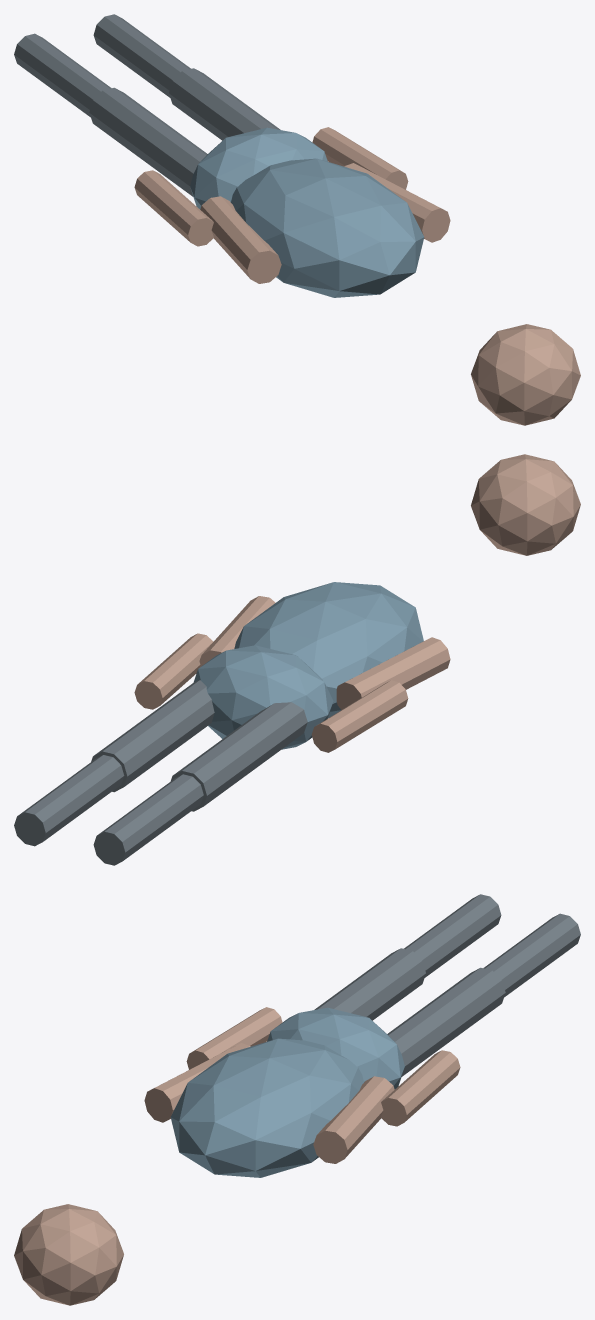
File: adult-low.glb
The picture shows the model from 3 angles, top to bottom: view 1: azimuth 30°, elevation 25°; view 2: azimuth 150°, elevation 25°; view 3: azimuth 330°, elevation 25°; orthographic projection.
Visible parts, largest first — view 1: torso, head, left_thigh, pelvis, right_thigh, right_lower_leg, left_lower_leg, left_upper_arm, left_forearm, right_forearm, right_upper_arm; view 2: torso, head, pelvis, left_thigh, right_thigh, left_lower_leg, right_lower_leg, left_upper_arm, left_forearm, right_forearm, right_upper_arm; view 3: torso, head, right_thigh, pelvis, left_thigh, left_lower_leg, right_lower_leg, right_upper_arm, right_forearm, left_forearm, left_upper_arm.
Part boxes in pixels (x1,y1,x2,y2): torso: (231, 158, 424, 297); head: (471, 324, 580, 425); left_thigh: (89, 87, 207, 196); pelvis: (190, 127, 327, 209); right_thigh: (169, 68, 280, 140); right_lower_leg: (93, 14, 190, 97); left_lower_leg: (14, 33, 111, 117); left_upper_arm: (200, 196, 281, 283); left_forearm: (134, 170, 213, 246); right_forearm: (312, 127, 408, 189); right_upper_arm: (344, 163, 450, 242); torso: (234, 582, 423, 717); head: (471, 454, 580, 555); pelvis: (193, 645, 333, 749); left_thigh: (171, 702, 307, 811); right_thigh: (91, 680, 214, 792); left_lower_leg: (93, 774, 203, 865); right_lower_leg: (14, 755, 124, 846); left_upper_arm: (336, 637, 450, 709); left_forearm: (311, 680, 408, 752); right_forearm: (134, 633, 213, 709); right_upper_arm: (199, 596, 275, 667); torso: (170, 1038, 363, 1177); head: (14, 1204, 123, 1305); right_thigh: (387, 967, 505, 1076); pelvis: (267, 1007, 404, 1089); left_thigh: (314, 948, 425, 1020); left_lower_leg: (404, 894, 501, 977); right_lower_leg: (483, 913, 580, 997); right_upper_arm: (313, 1076, 394, 1163); right_forearm: (381, 1050, 460, 1126); left_forearm: (186, 1007, 282, 1069); left_upper_arm: (144, 1043, 250, 1122).
Size of the model in its own units: 1.38 by 0.6 by 5.26.
